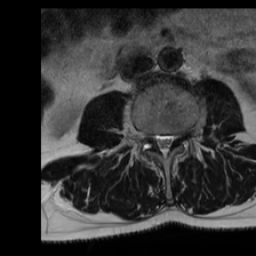CCS_normal: (159, 128, 167, 161)
LFS_stenosis: (175, 126, 183, 146)
LLS_stenosis: (167, 129, 175, 149)
RFS_severe_stenosis: (145, 125, 154, 146)
RLS_normal: (153, 129, 159, 149)
